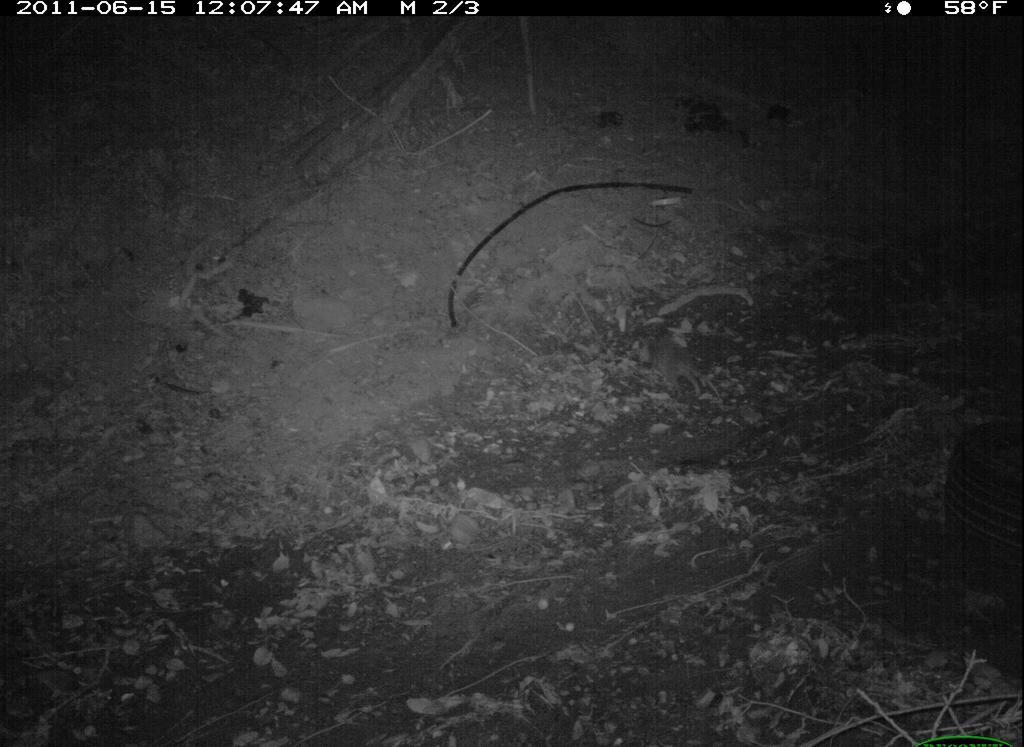opossum: (641, 329, 728, 406)
